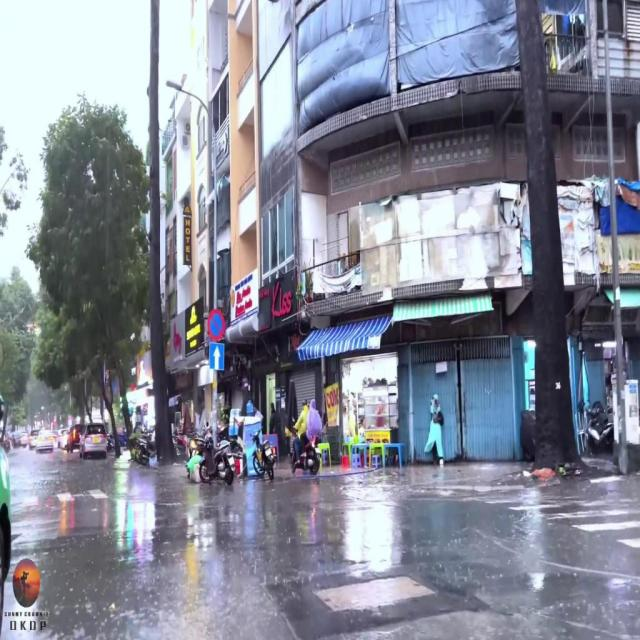cam_do_xe: (208, 308, 224, 340)
duong_mot_chieu: (210, 342, 224, 370)
